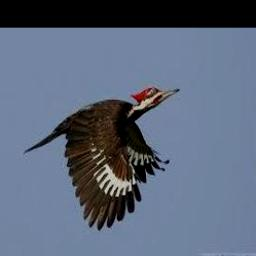Woodpecker: (24, 86, 179, 230)
